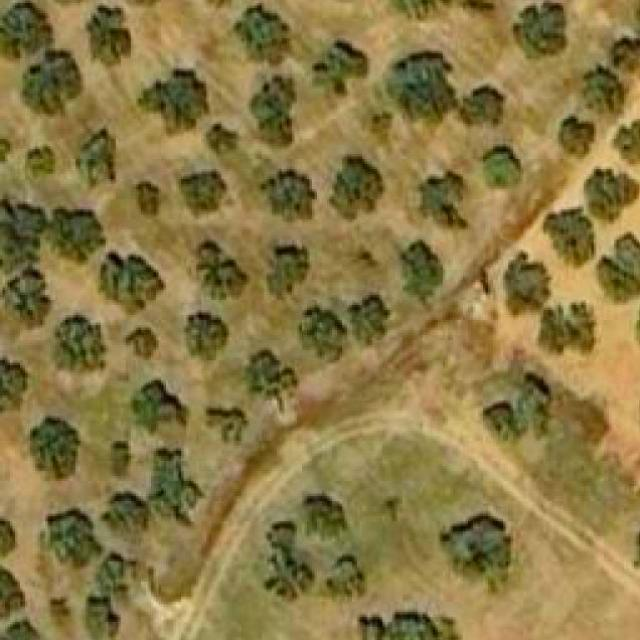Tree: (438, 511, 513, 595), (136, 68, 209, 137), (389, 48, 458, 119), (265, 521, 318, 605), (20, 43, 81, 114), (99, 250, 164, 313), (151, 449, 204, 524), (234, 3, 295, 66), (392, 239, 443, 310), (45, 509, 101, 573), (330, 157, 385, 222), (312, 40, 372, 99), (53, 313, 107, 376), (244, 350, 298, 412), (260, 237, 310, 303), (251, 76, 297, 147), (126, 380, 186, 434), (50, 204, 104, 263), (596, 232, 640, 302), (513, 0, 566, 58), (30, 419, 81, 479), (194, 242, 245, 302), (536, 303, 596, 353), (0, 0, 52, 57), (418, 171, 468, 230), (586, 166, 640, 220), (3, 267, 53, 325), (85, 6, 131, 69), (503, 253, 549, 316), (297, 313, 352, 363), (0, 199, 45, 259), (260, 169, 315, 217), (548, 207, 594, 263), (75, 132, 121, 185), (184, 313, 230, 363), (101, 491, 151, 536), (455, 81, 503, 127), (178, 172, 227, 217), (302, 494, 347, 539), (481, 144, 524, 189), (322, 556, 365, 600), (582, 66, 625, 110), (352, 295, 390, 343), (199, 121, 243, 161), (382, 609, 438, 640), (83, 593, 116, 640), (0, 355, 28, 409), (206, 408, 247, 444), (0, 561, 25, 620), (481, 404, 526, 436), (98, 554, 132, 595), (558, 116, 594, 154), (611, 116, 640, 163), (516, 374, 554, 404), (126, 328, 159, 361), (348, 247, 386, 274), (111, 431, 131, 481), (28, 147, 58, 180), (611, 36, 640, 70), (0, 619, 45, 640), (131, 184, 159, 214), (0, 520, 18, 554)
